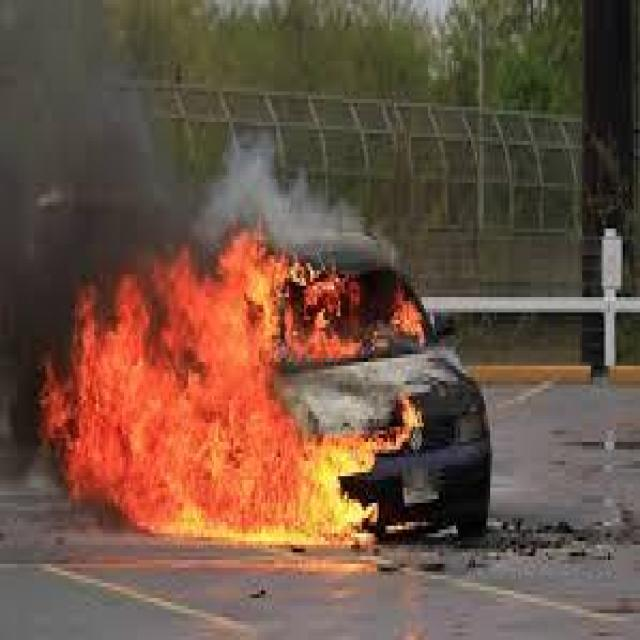fire: (58, 202, 377, 568)
